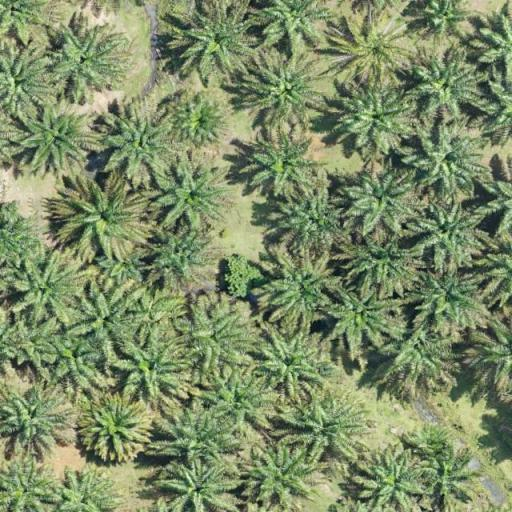Ganoderma: (348, 28, 399, 73)
